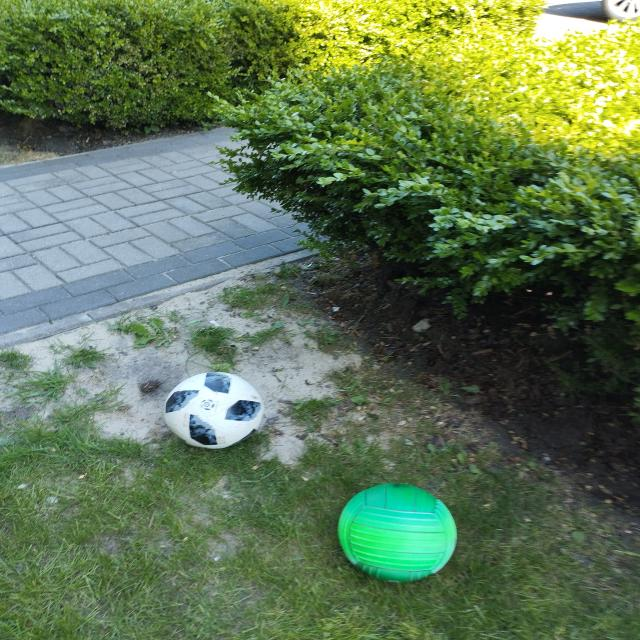nozna: (164, 372, 265, 449)
zielona: (337, 482, 459, 583)
